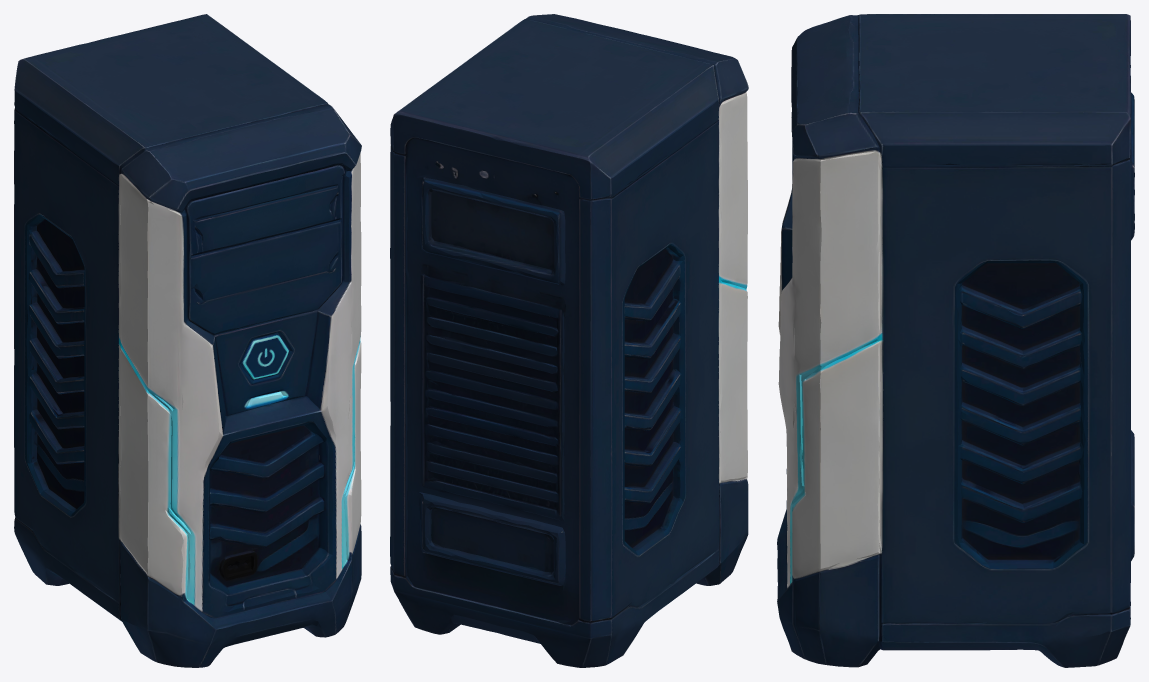
The model's file is cpu.fbx.
3 renders of one model, left to right at view 1: azimuth 30°, elevation 25°; view 2: azimuth 150°, elevation 25°; view 3: azimuth 270°, elevation 25°, orthographic. The views are drawn at different scales.
Visible parts, largest first — view 1: Mesh.007; view 2: Mesh.007; view 3: Mesh.007.
Boxes of the visible parts, x1,y1,x2,y2 form: Mesh.007: (14,14,361,667); Mesh.007: (390,14,748,667); Mesh.007: (777,14,1134,667).
Size of the model in its own units: 81.34 by 183 by 106.
1 material, 1 textured.
